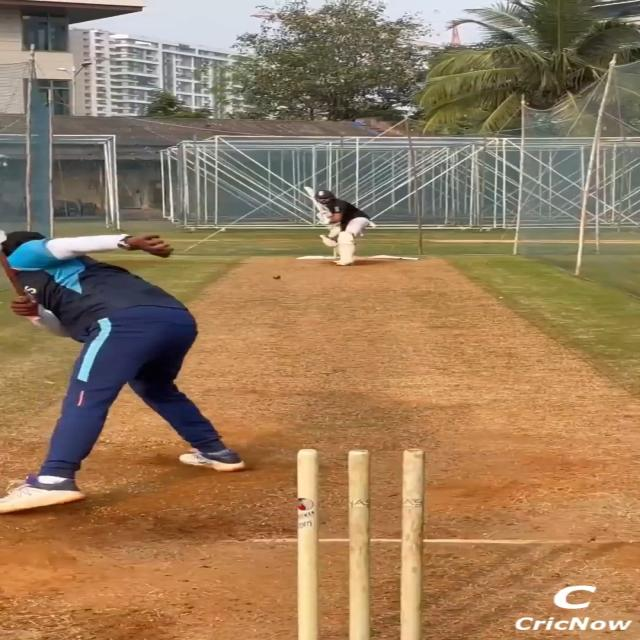ball: (272, 275, 281, 280)
stump: (295, 448, 424, 640)
